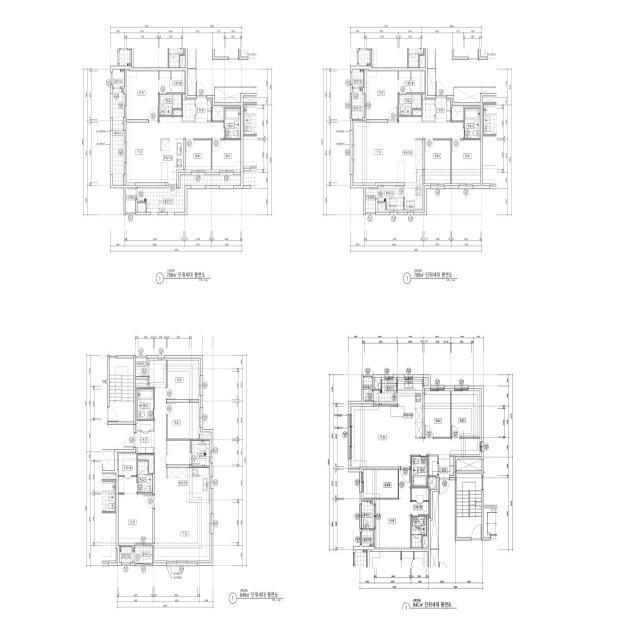space_balconi: (138, 175, 241, 212), (113, 88, 123, 185), (378, 186, 404, 210), (374, 380, 397, 405), (192, 441, 209, 466), (352, 88, 364, 119), (362, 501, 374, 529), (133, 546, 152, 563)
space_bedroom: (376, 470, 410, 548), (118, 494, 153, 543), (366, 71, 398, 119), (127, 71, 158, 119), (451, 391, 480, 437), (167, 360, 199, 400), (452, 140, 480, 183), (167, 403, 199, 439), (425, 391, 450, 437), (425, 140, 451, 183), (212, 140, 241, 170), (185, 140, 211, 170)
space_dressroom: (118, 454, 137, 493), (159, 71, 184, 93), (399, 71, 424, 93), (411, 488, 429, 515)
space_front: (135, 432, 155, 454), (435, 97, 451, 122), (196, 97, 211, 122), (439, 455, 454, 478)
space_kitchen: (166, 468, 209, 503), (398, 380, 423, 437), (405, 139, 423, 210), (160, 139, 183, 183)
space_living_room: (150, 360, 209, 561), (352, 406, 480, 467), (354, 117, 463, 183), (127, 117, 224, 183)
space_multipurpose_space: (364, 470, 398, 498)
space_other: (167, 441, 190, 465), (430, 492, 439, 549), (457, 459, 482, 471), (138, 455, 153, 473), (366, 188, 377, 212), (422, 100, 434, 121), (183, 100, 195, 121), (126, 188, 136, 212), (427, 69, 436, 95), (136, 358, 148, 376), (363, 378, 372, 401), (137, 420, 154, 430), (212, 107, 224, 121), (429, 456, 437, 476), (452, 107, 463, 121), (428, 477, 436, 488), (136, 379, 148, 385), (138, 203, 146, 212), (375, 380, 381, 389), (200, 434, 210, 439), (378, 203, 385, 210), (423, 536, 427, 548), (173, 110, 182, 115), (413, 110, 421, 115), (424, 379, 427, 386)
space_outdoor_room: (352, 69, 364, 87), (113, 69, 124, 87), (120, 547, 132, 563), (362, 530, 373, 546)
space_staircase: (109, 358, 134, 422), (457, 474, 482, 537)
space_toilet: (225, 108, 241, 139), (159, 94, 182, 115), (138, 461, 153, 493), (411, 516, 426, 548), (464, 108, 480, 138), (412, 456, 427, 487), (399, 94, 421, 115), (138, 389, 153, 419)
